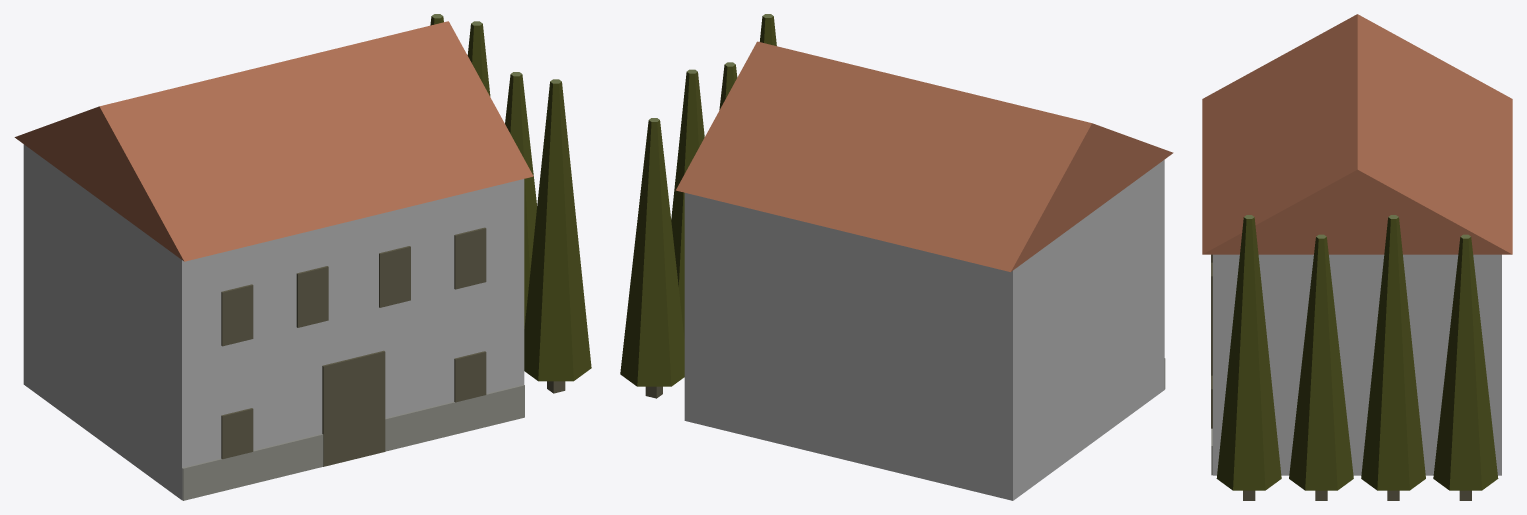
File: SM_CasaLabor_v4_Cipreses_LOD1.fbx
3 renders of one model, left to right at view 1: azimuth 30°, elevation 25°; view 2: azimuth 150°, elevation 25°; view 3: azimuth 270°, elevation 25°, orthographic. The views are drawn at different scales.
Parts seen in each view (by area): view 1: SM_bloques.viveres_nules_v14_LOD1; view 2: SM_bloques.viveres_nules_v14_LOD1; view 3: SM_bloques.viveres_nules_v14_LOD1.
Boxes of the visible parts, box(x1,y1,x2,y2) form: SM_bloques.viveres_nules_v14_LOD1: box(14, 14, 591, 500); SM_bloques.viveres_nules_v14_LOD1: box(620, 14, 1173, 500); SM_bloques.viveres_nules_v14_LOD1: box(1202, 14, 1512, 500).
Size of the model in its own units: 12.38 by 9.4 by 8.6.
